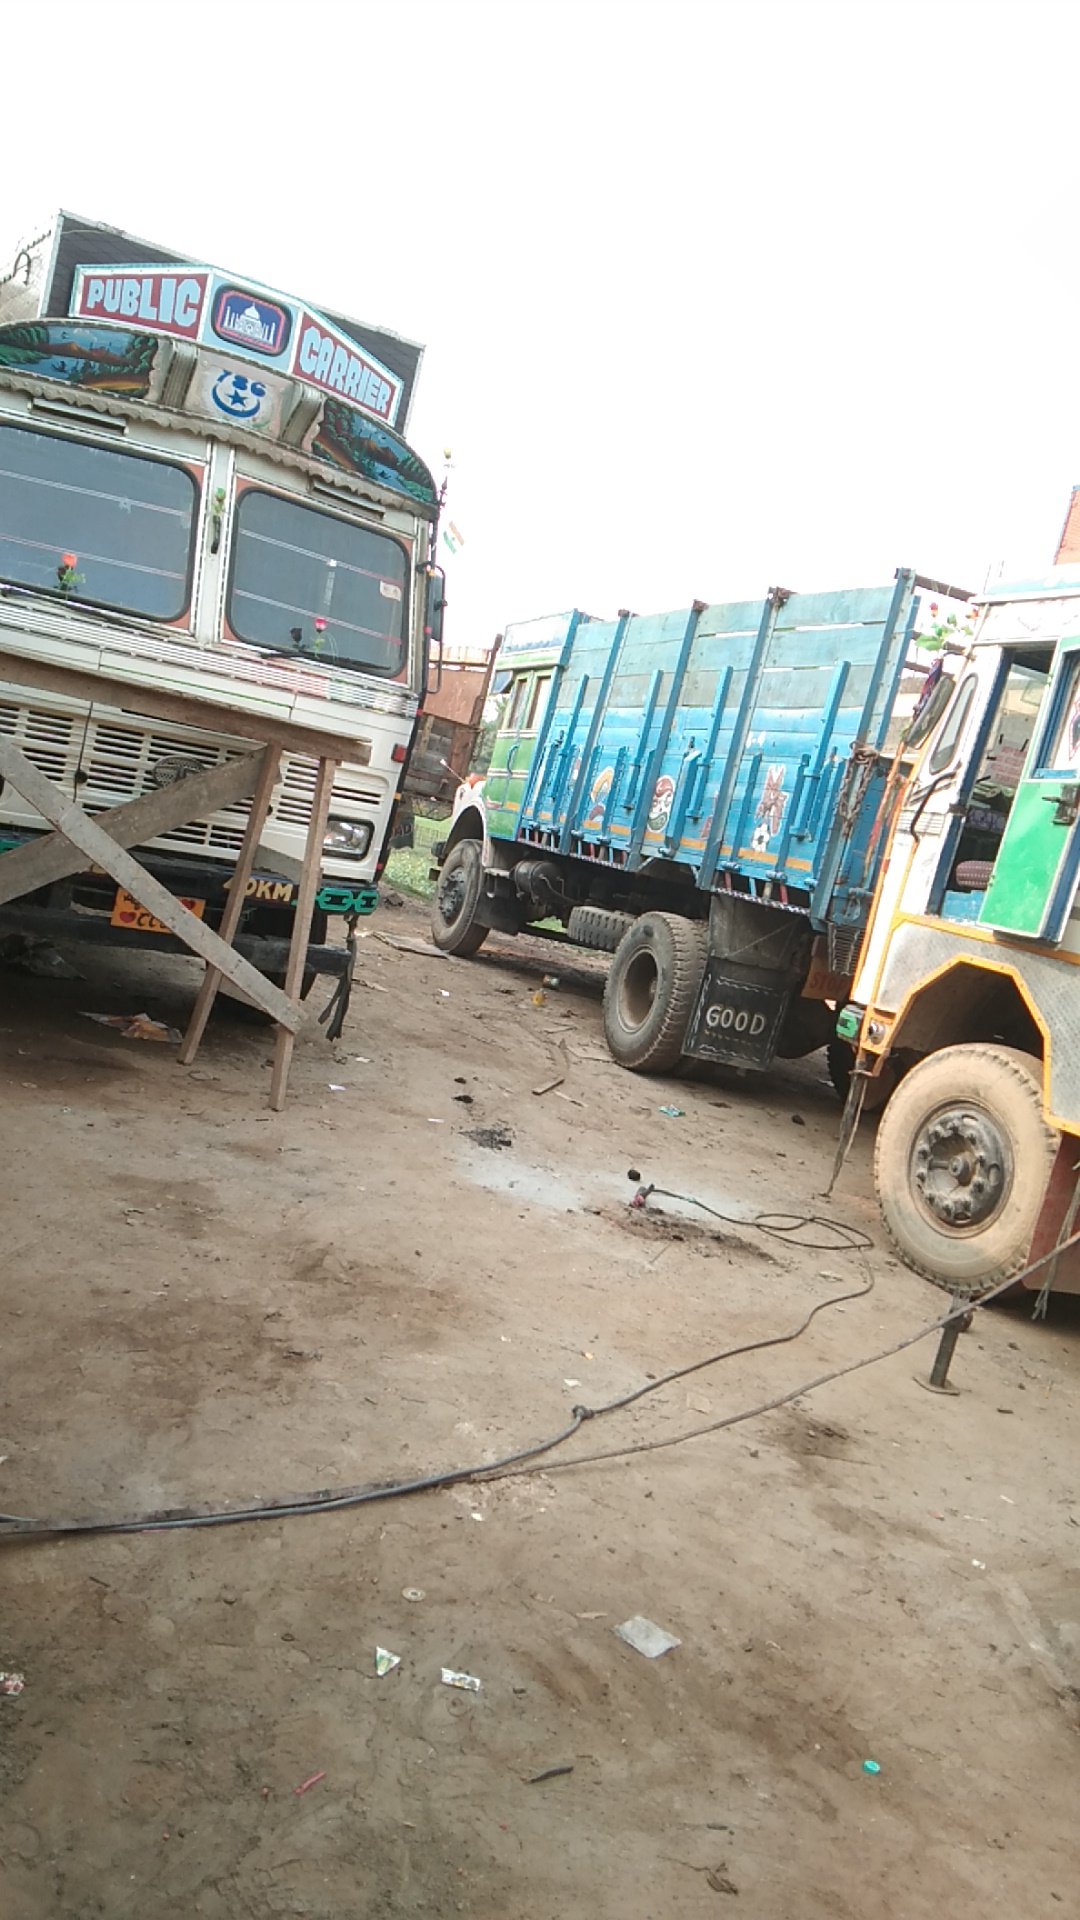truck: (0, 202, 454, 1027), (425, 564, 982, 1120), (832, 558, 1080, 1304)
